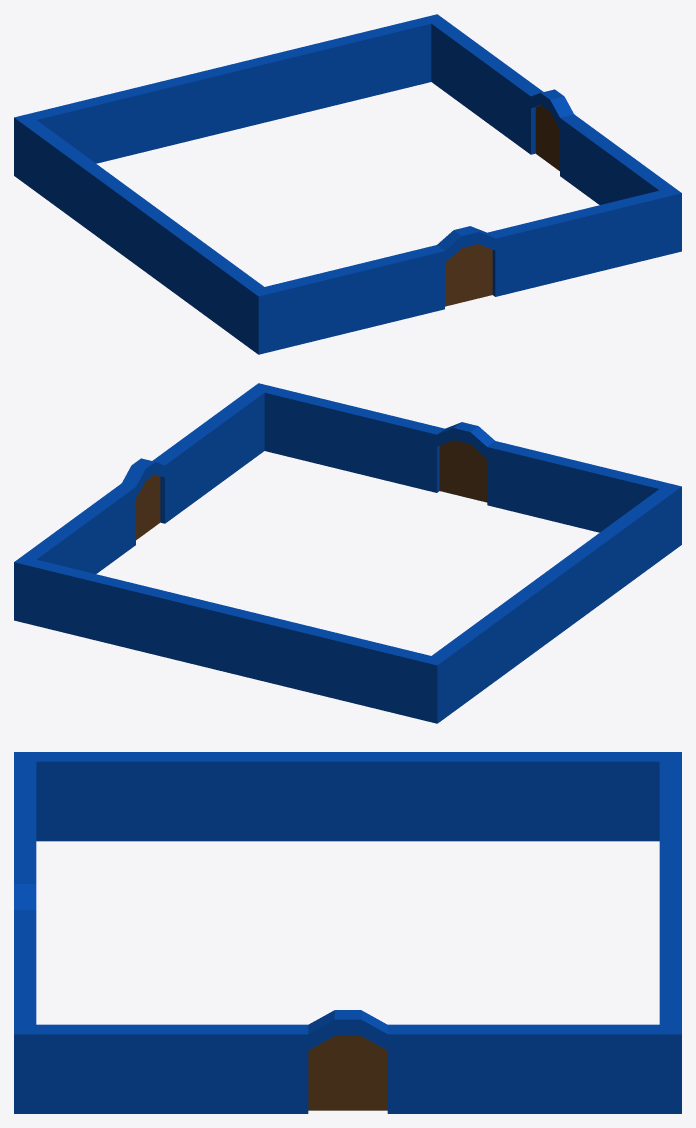
Rendered from TwoDoorSE.fbx.
3 views of the same model, one above another, from view 1: azimuth 30°, elevation 25°; view 2: azimuth 150°, elevation 25°; view 3: azimuth 270°, elevation 25° (orthographic). The views are drawn at different scales.
Parts seen in each view (by area): view 1: walls, S_door, E_door; view 2: walls, S_door, E_door; view 3: walls, E_door.
Boxes of the visible parts, <box> form: walls: <box>14,14,681,354</box>; S_door: <box>445,244,492,306</box>; E_door: <box>535,105,559,170</box>; walls: <box>14,383,681,723</box>; S_door: <box>439,440,487,502</box>; E_door: <box>136,474,160,539</box>; walls: <box>14,752,681,1113</box>; E_door: <box>308,1036,387,1110</box>.
Bounding box in the file's own units: 3566 × 556 × 3567.
